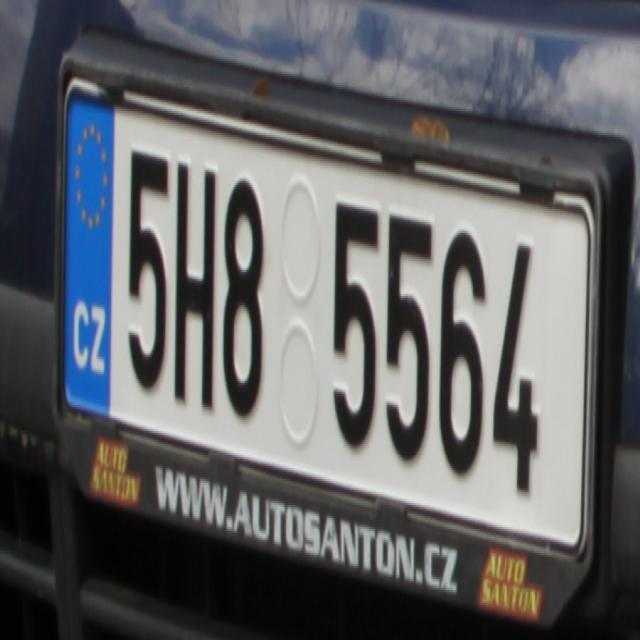4: (492, 236, 540, 499)
5: (384, 210, 434, 464), (329, 195, 378, 450), (124, 142, 168, 388)
6: (438, 220, 486, 487)
8: (221, 170, 265, 426)
H: (173, 152, 215, 414)
